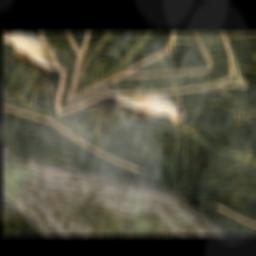Cuckoo: (68, 67, 196, 152)
